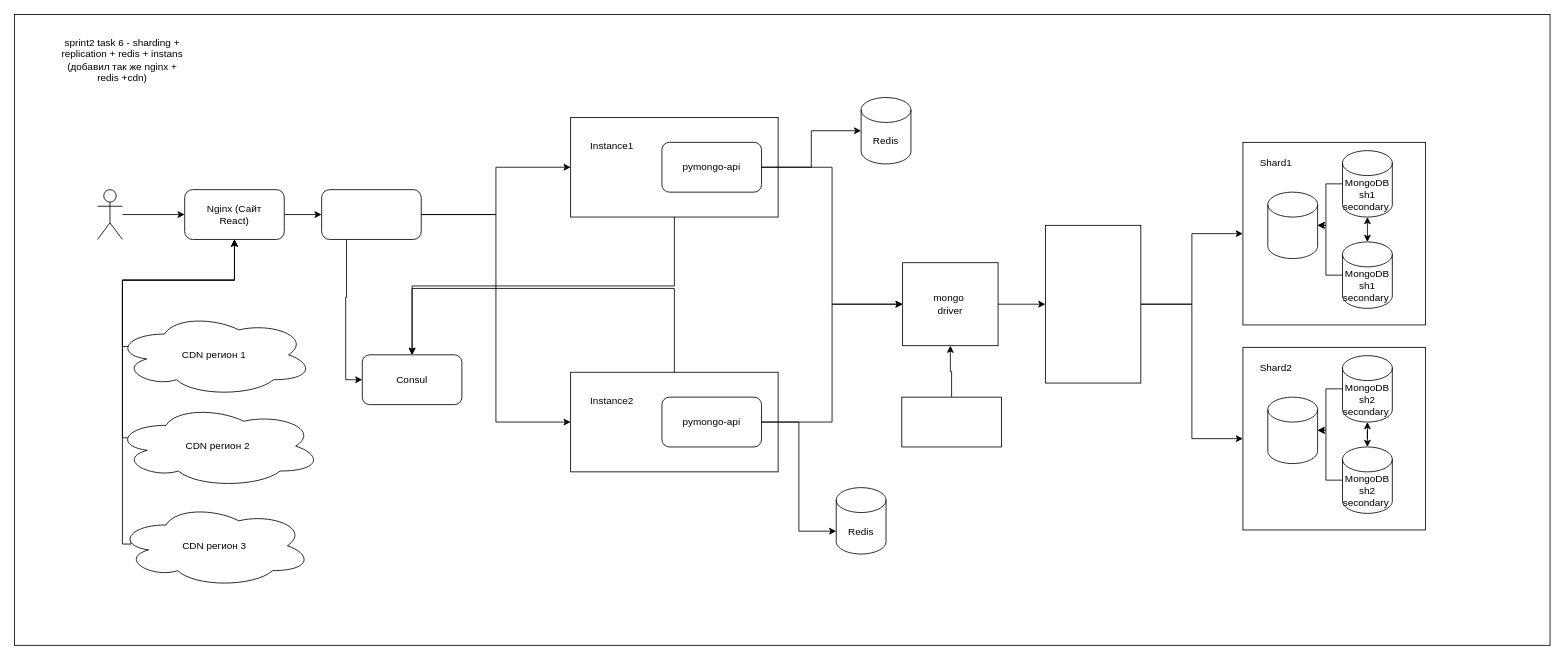
This 1565x660 diagram has some shape labels left out. Each missing label, with the centre of its shape:
APISIX Gateway: the point at 371,214
configSrv ( данные о кластере ): the point at 951,421
mongo router: the point at 1093,304
MongoDB sh1 primary: the point at 1292,225
MongoDB sh2 primary: the point at 1292,430
User: the point at 109,214
